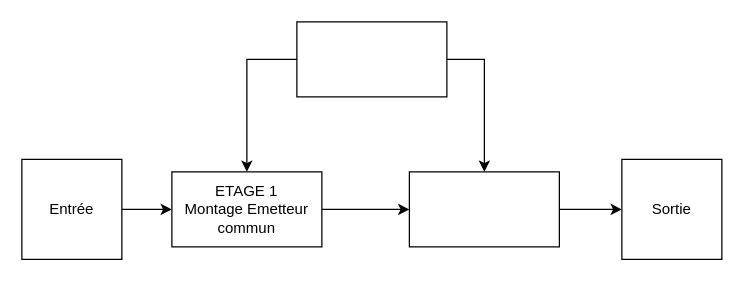
Image size: 744x281. Some labels were removed from this diagram. Here are the shapes that lost their labels. From the top down, the centre of each, then its label:
At point (371, 59): "ALIMENTATION DC 15V".
At point (483, 209): "ETAGE 2 Montage Emetteur commun".
